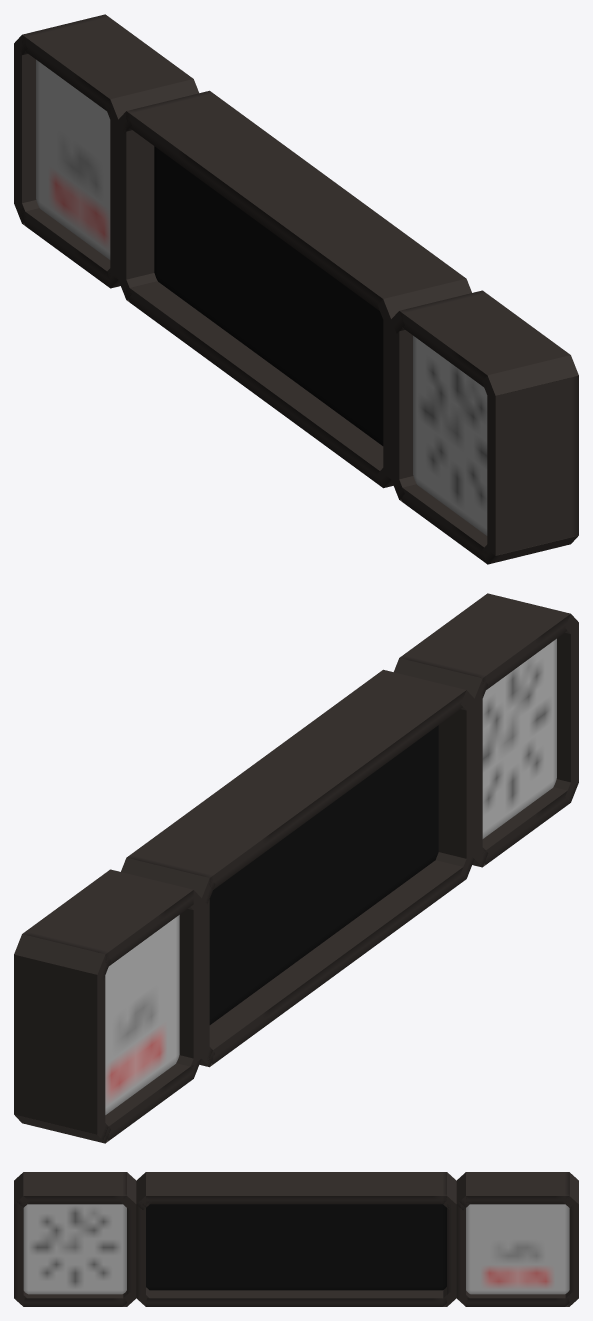
The model's file is hvv_pids_info.obj.
3 renders of one model, top to bottom at view 1: azimuth 30°, elevation 25°; view 2: azimuth 150°, elevation 25°; view 3: azimuth 270°, elevation 25°, orthographic. The views are drawn at different scales.
Parts seen in each view (by area): view 1: cube; view 2: cube; view 3: cube.
Boxes of the visible parts, x1,y1,x2,y2 form: cube: (14, 14, 578, 564); cube: (14, 593, 578, 1143); cube: (14, 1172, 578, 1306).
Size of the model in its own units: 0.375 by 0.8134 by 3.75.
Materials: 1 (1 with a texture image).
